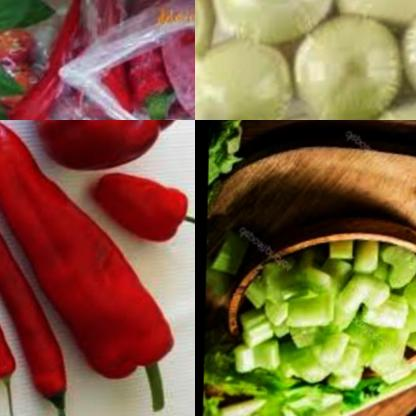bell pepper: (0, 120, 173, 416), (13, 120, 194, 175), (91, 160, 195, 252)
celery: (231, 237, 416, 416), (201, 308, 416, 416), (205, 223, 265, 313), (206, 120, 255, 201)
hot pepper: (0, 8, 195, 120), (0, 155, 83, 416), (94, 22, 195, 120), (94, 0, 195, 63), (0, 264, 22, 416)
onion: (195, 0, 416, 120)
